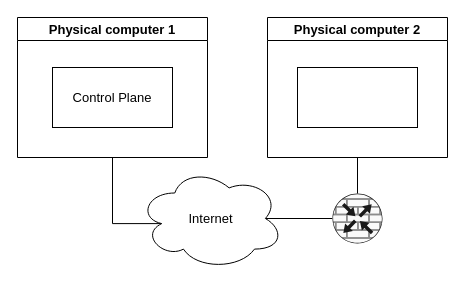
This 465x287 diagram has some shape labels left out. Each missing label, with the centre of its shape:
"Virtual Private Network" goes at point (357, 218).
"Worker" goes at point (357, 97).
